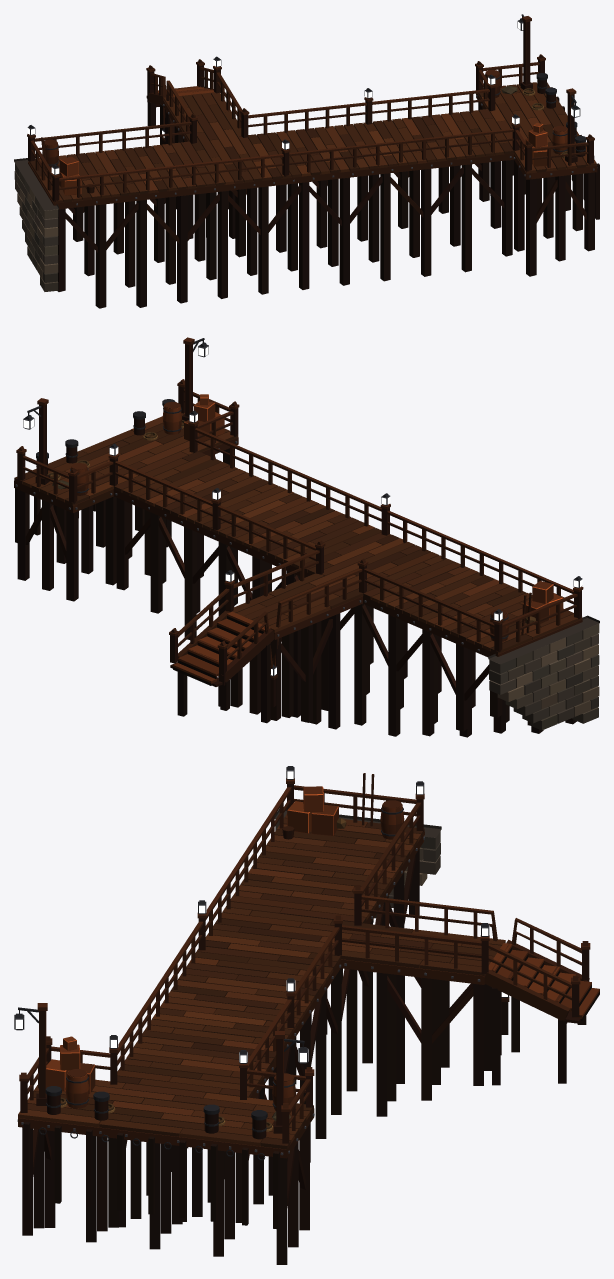
File: wickharbor_wharf_source.glb
3 views of the same model, one above another, from view 1: azimuth 30°, elevation 25°; view 2: azimuth 150°, elevation 25°; view 3: azimuth 270°, elevation 25° (orthographic). The views are drawn at different scales.
Parts seen in each view (by area): view 1: WharfFrame, WharfDeck, WharfRails, WharfCargo, WharfLanterns, WharfFlight, WharfTrim, WharfClutter; view 2: WharfFrame, WharfDeck, WharfRails, WharfFlight, WharfCargo, WharfLanterns, WharfTrim, WharfClutter; view 3: WharfDeck, WharfFrame, WharfRails, WharfCargo, WharfFlight, WharfTrim, WharfLanterns, WharfClutter.
Boxes of the visible parts, box(x1,y1,x2,y2) form: WharfFrame: box(14, 93, 597, 308); WharfDeck: box(28, 82, 596, 203); WharfRails: box(27, 54, 594, 201); WharfCargo: box(42, 70, 586, 195); WharfLanterns: box(27, 14, 580, 175); WharfFlight: box(146, 86, 214, 145); WharfTrim: box(45, 75, 599, 219); WharfClutter: box(41, 85, 567, 193); WharfFrame: box(14, 437, 599, 737); WharfDeck: box(14, 413, 582, 654); WharfRails: box(16, 379, 583, 707); WharfFlight: box(170, 610, 274, 723); WharfCargo: box(36, 399, 563, 641); WharfLanterns: box(23, 337, 582, 676); WharfTrim: box(15, 407, 508, 651); WharfClutter: box(47, 394, 535, 635); WharfDeck: box(18, 814, 505, 1149); WharfFrame: box(18, 809, 501, 1264); WharfRails: box(19, 778, 590, 1144); WharfCargo: box(45, 786, 404, 1139); WharfFlight: box(484, 939, 599, 1085); WharfTrim: box(17, 807, 480, 1229); WharfLanterns: box(14, 766, 509, 1133); WharfClutter: box(60, 773, 374, 1131).
Bounding box in the file's own units: 32.05 × 11.3 × 23.07.
